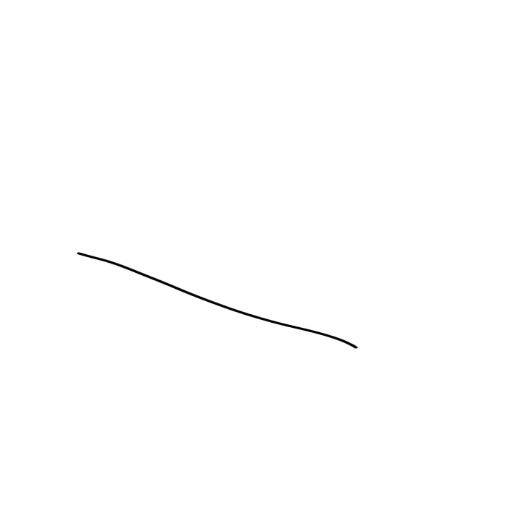line: (74, 245, 364, 353)
